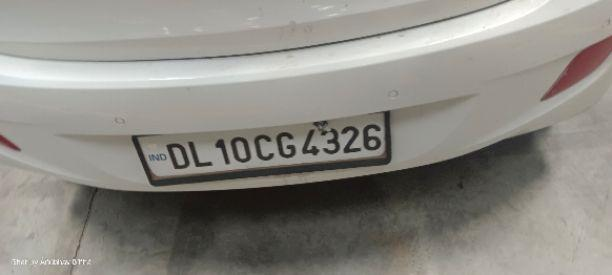license_plate: (0, 0, 611, 193), (131, 110, 391, 186)
